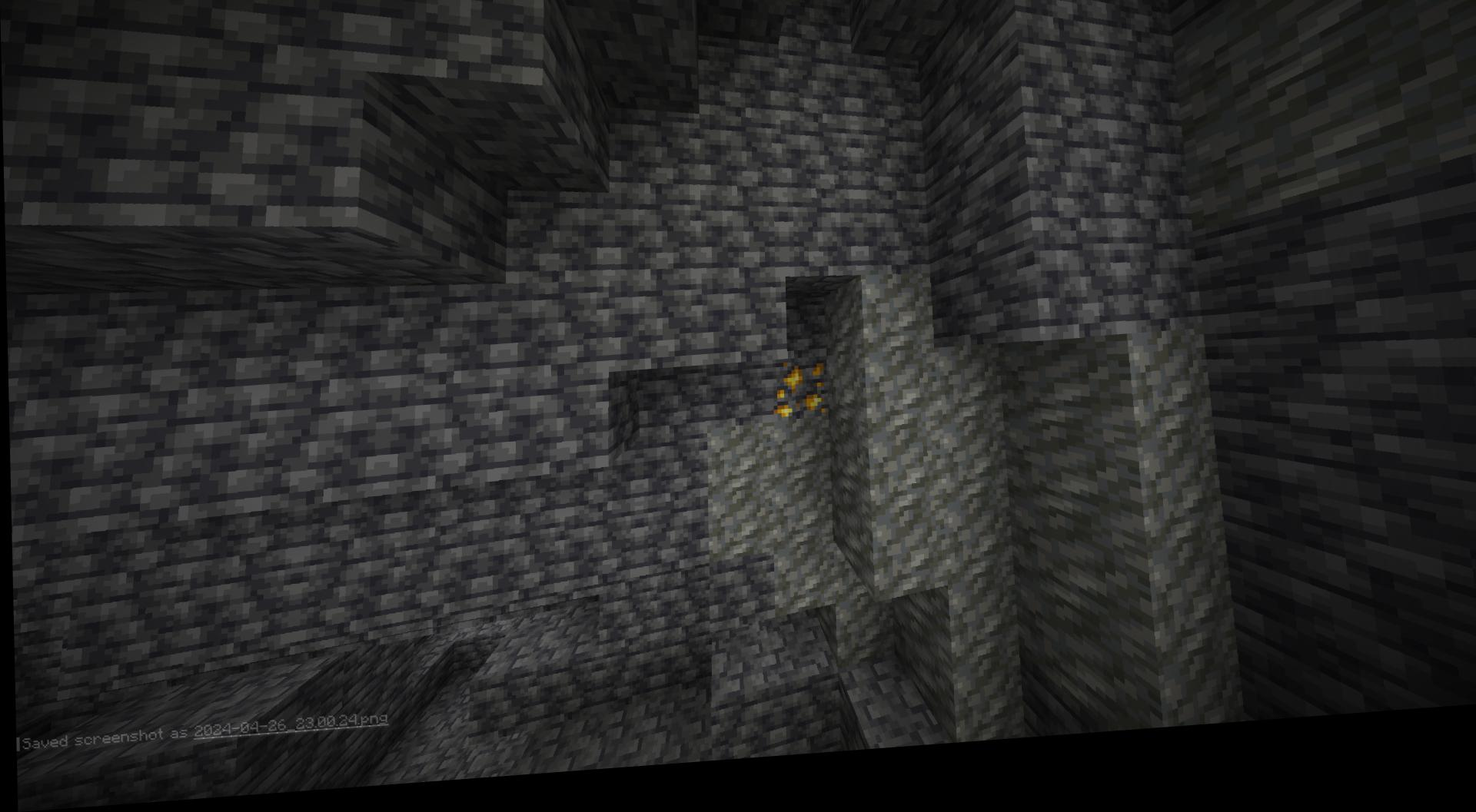gold ore: (773, 368, 828, 427)
